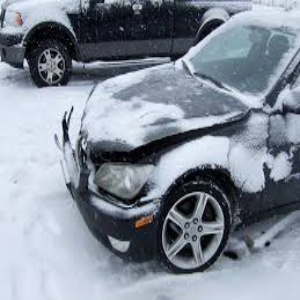bonnet: (95, 71, 198, 153)
